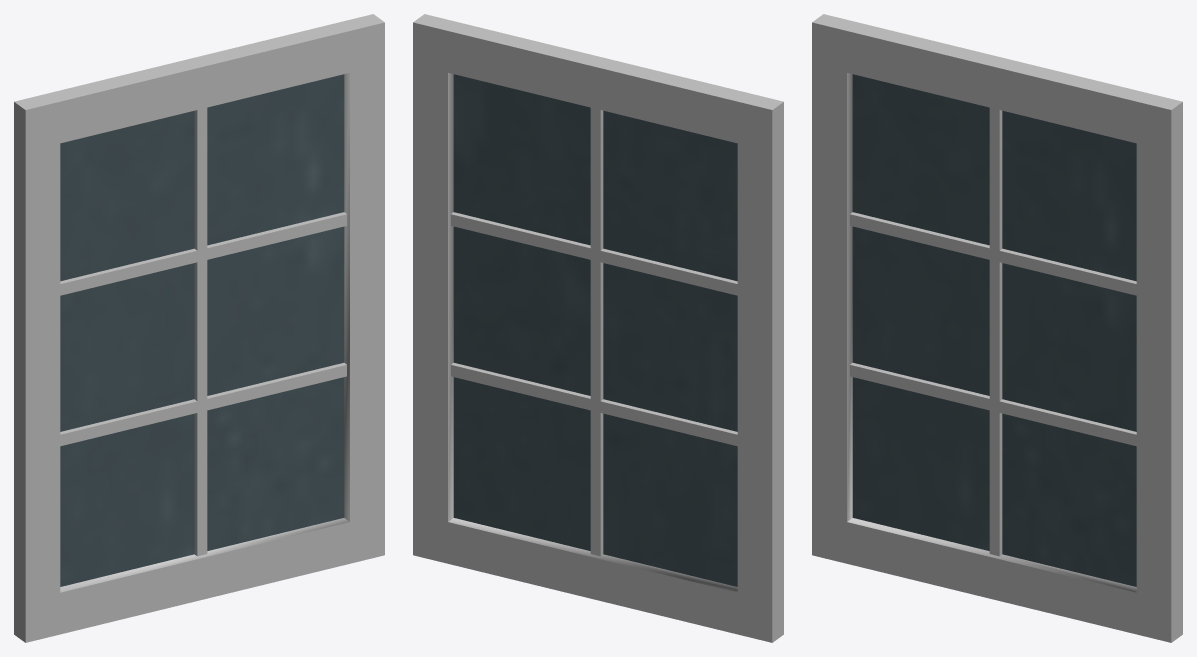
The model's file is MS_Window_1.fbx.
3 renders of one model, left to right at view 1: azimuth 30°, elevation 25°; view 2: azimuth 150°, elevation 25°; view 3: azimuth 330°, elevation 25°, orthographic.
Visible parts, largest first — view 1: MSH_Window_Glass; view 2: MSH_Window_Glass; view 3: MSH_Window_Glass.
Boxes of the visible parts, left/top/right/bottom form: MSH_Window_Glass: left=14, top=14, right=384, bottom=642; MSH_Window_Glass: left=413, top=14, right=783, bottom=642; MSH_Window_Glass: left=812, top=14, right=1182, bottom=642.
Size of the model in its own units: 72 by 102 by 4.
